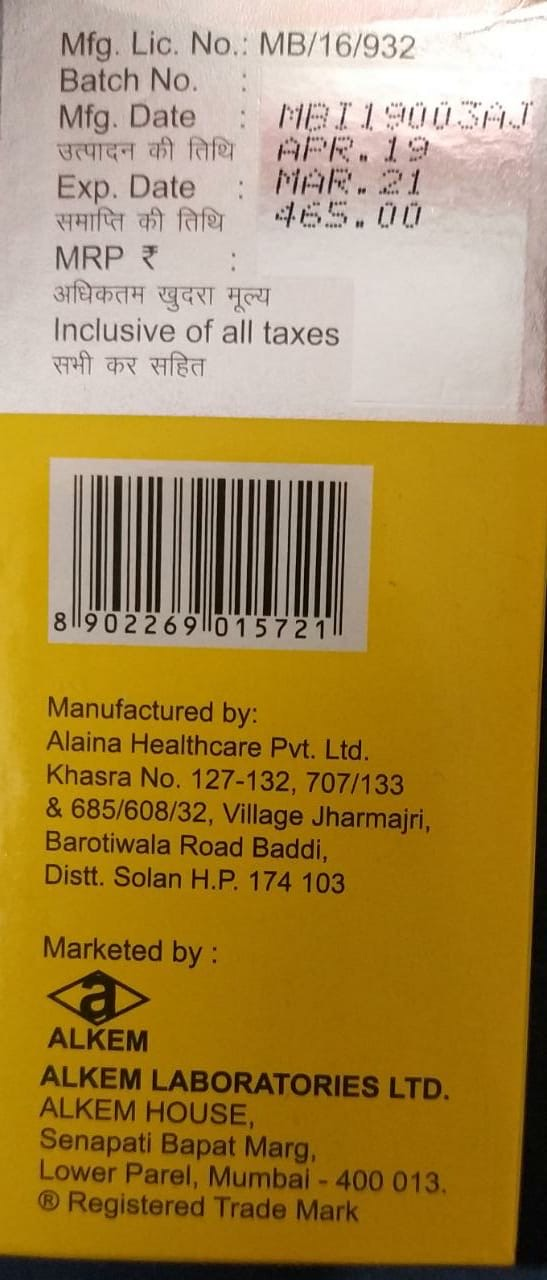barcode: (46, 460, 363, 649)
